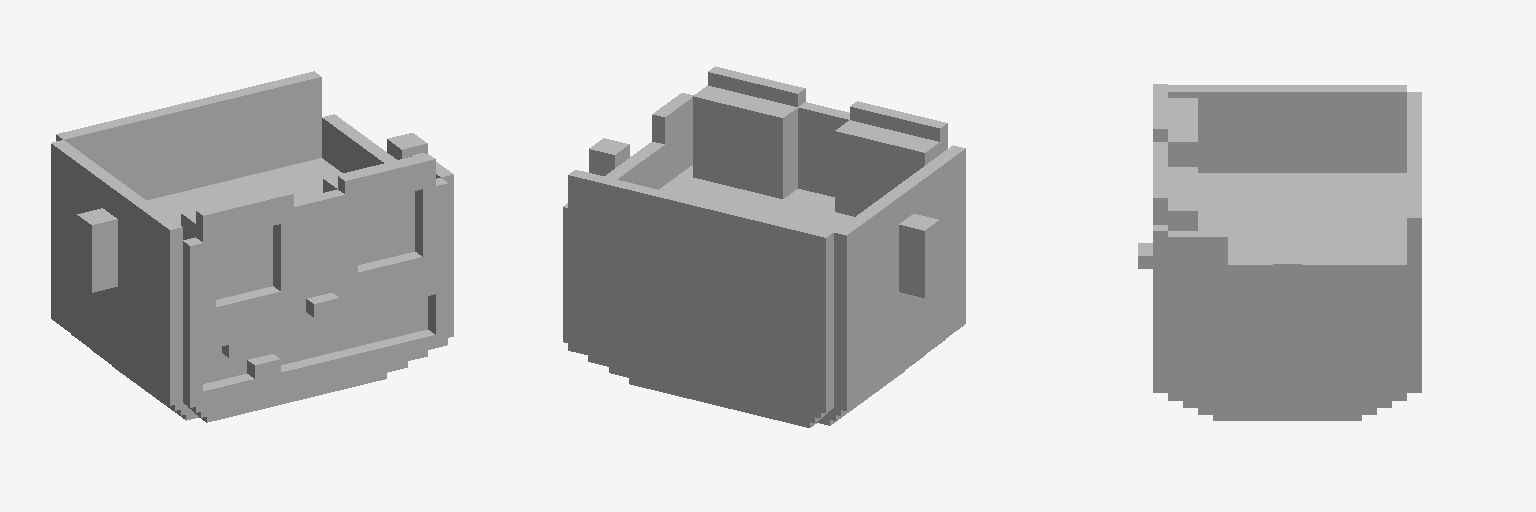
The model's file is enemy head 01.obj.
3 renders of one model, left to right at view 1: azimuth 30°, elevation 25°; view 2: azimuth 150°, elevation 25°; view 3: azimuth 270°, elevation 25°, orthographic.
Parts seen in each view (by area): view 1: object 1; view 2: object 1; view 3: object 1.
Part boxes in pixels (left/top/right/bottom): object 1: left=51, top=71, right=453, bottom=422; object 1: left=563, top=66, right=965, bottom=427; object 1: left=1138, top=84, right=1421, bottom=420.
Bounding box in the file's own units: 2.6 × 1.7 × 1.9.